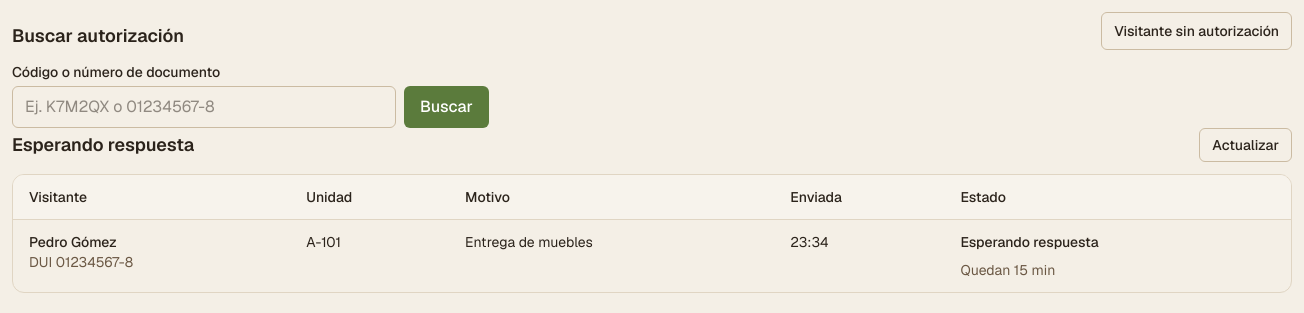
Test case: H16. Registro de entrada de visitantes › AC3: el botón Actualizar vuelve a consultar la lista
Click the button "Actualizar": (1246, 145) [1199,128,1292,162]
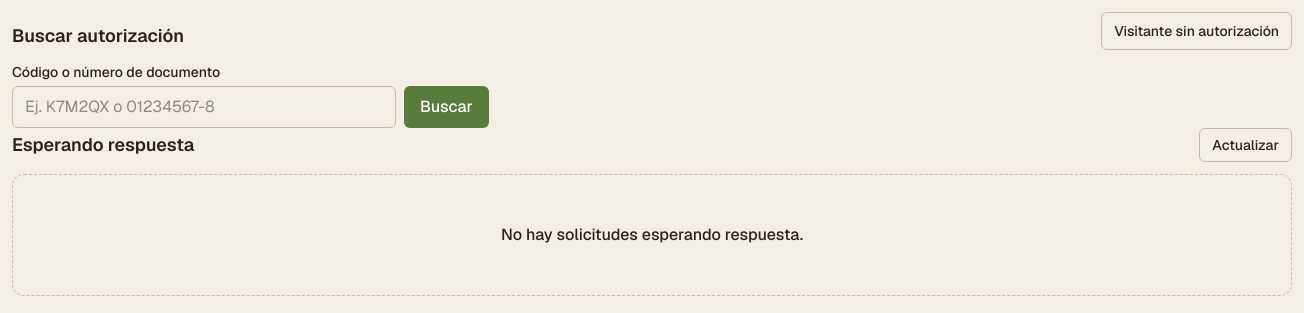
Expected: the text "No hay solicitudes esperando respuesta." is shown, [501,224,803,245]
